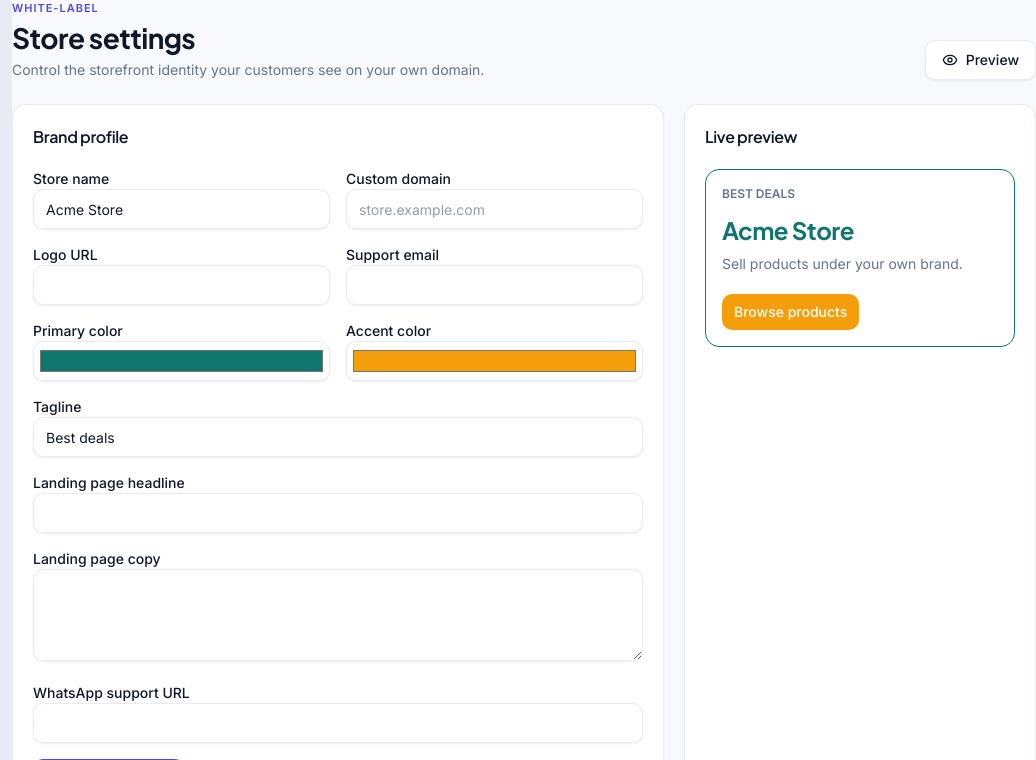
Test: StoreSettingsPage › loads branding and saves white-label changes
Replace the text in the field labelled "Store name" with "Acme Pro" at x=182, y=209, box [33,189,330,229]
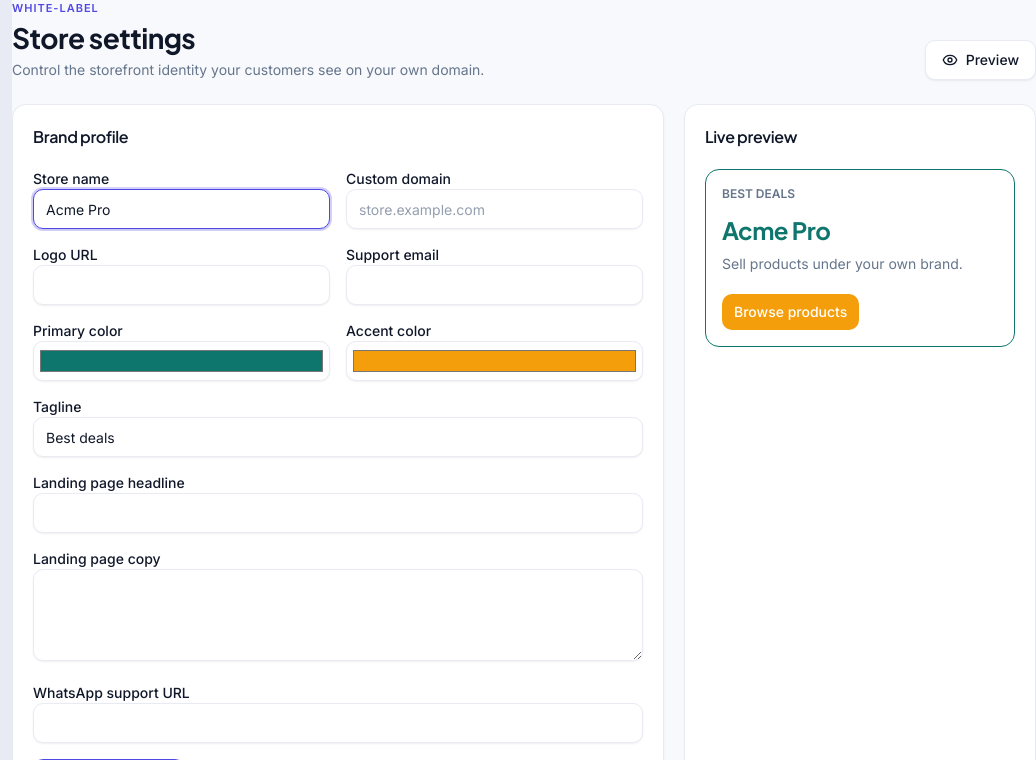
Type "store.acme.test" into the field labelled "Custom domain" at x=494, y=209, box [346,189,643,229]
(page scrolled)
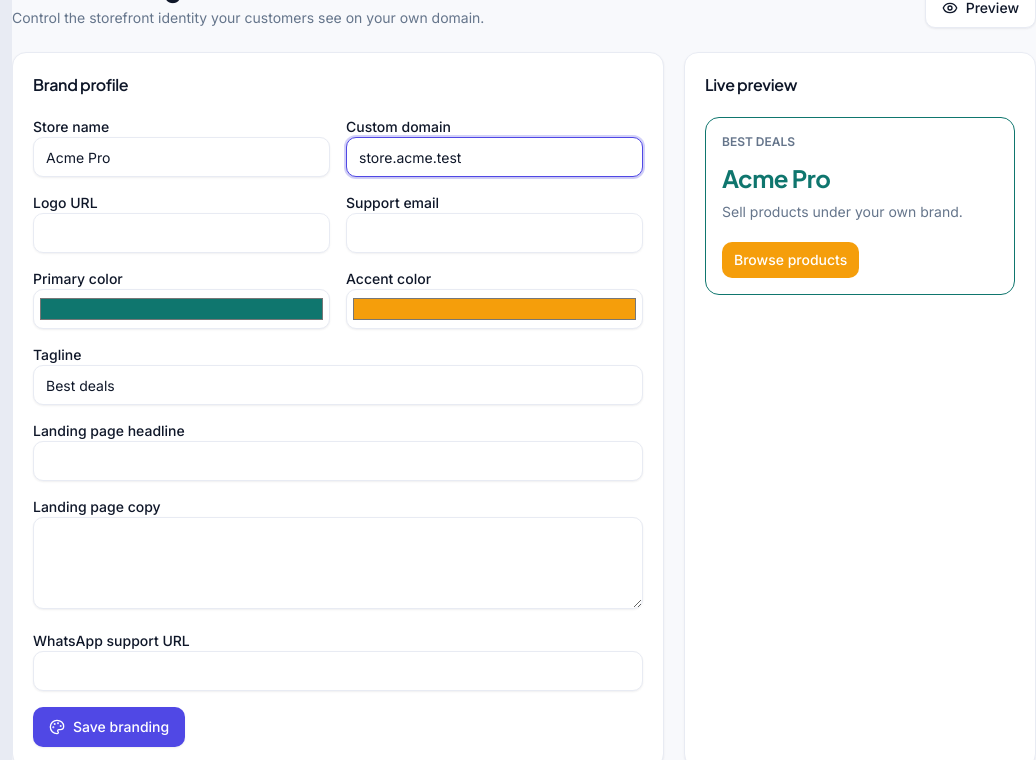
Click the button "Save branding" at x=109, y=727, box [33,707,185,747]
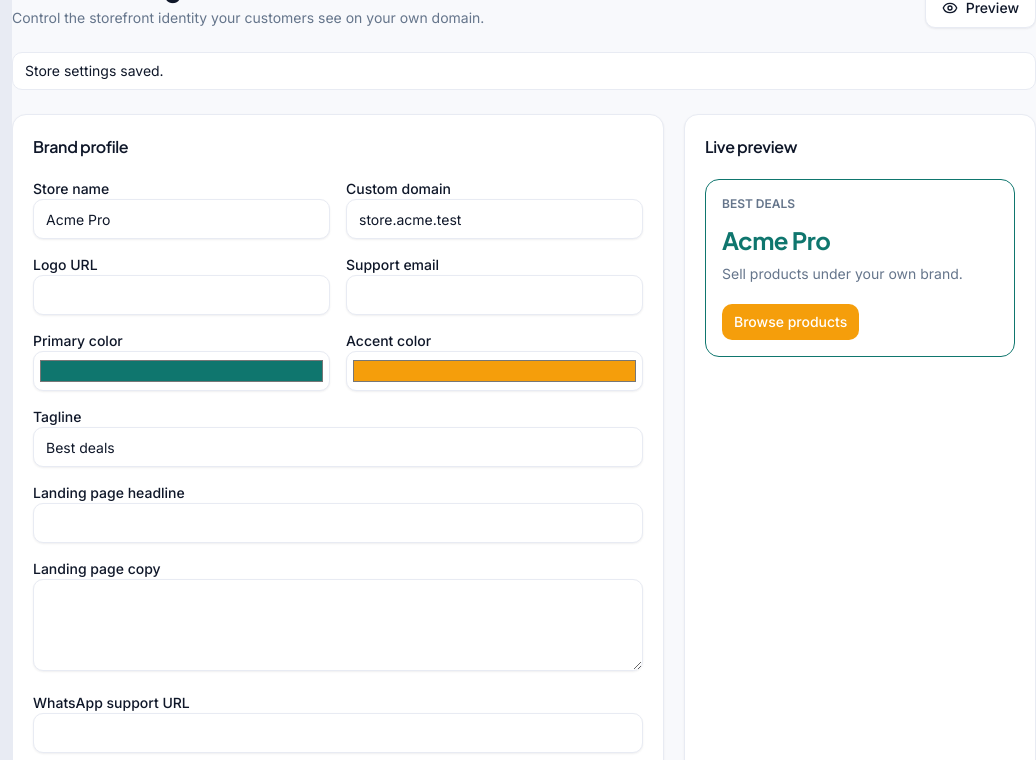
Expected: the text "Store settings saved." is shown, [12,52,1035,90]
